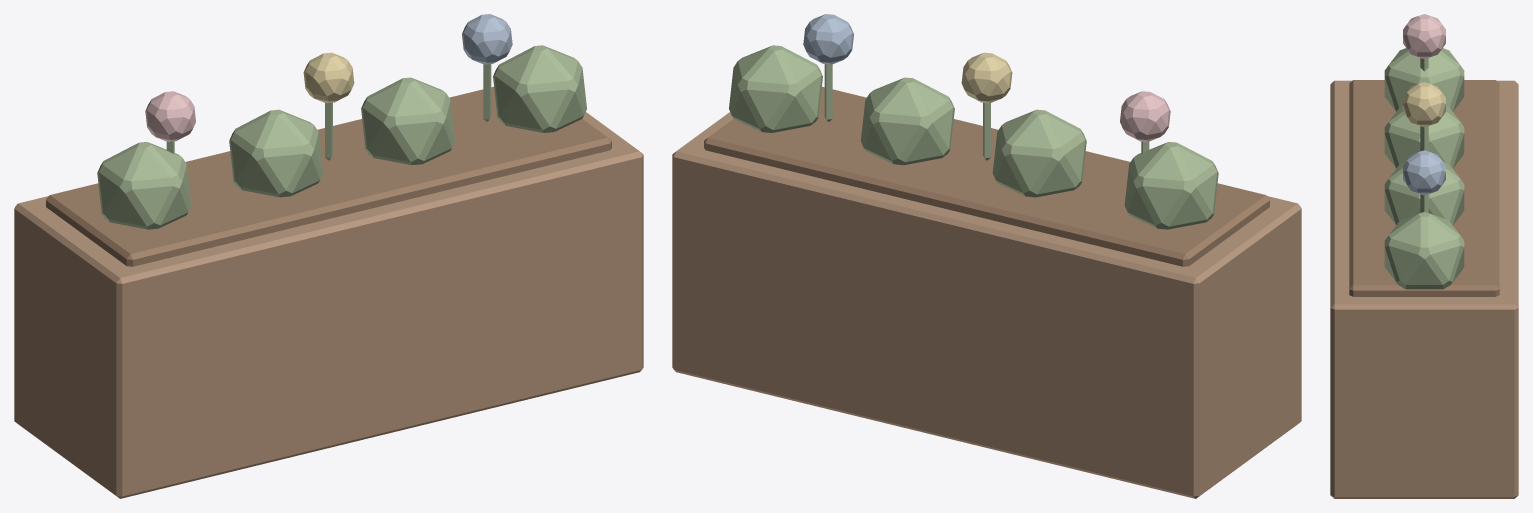
File: SM_Planter_Box.fbx
The picture shows the model from 3 angles, left to right: view 1: azimuth 30°, elevation 25°; view 2: azimuth 150°, elevation 25°; view 3: azimuth 270°, elevation 25°; orthographic projection. The views are drawn at different scales.
Visible parts, largest first — view 1: Planter_Box; view 2: Planter_Box; view 3: Planter_Box.
Part boxes in pixels (left/top/right/bottom): Planter_Box: left=14, top=14, right=643, bottom=498; Planter_Box: left=672, top=14, right=1301, bottom=498; Planter_Box: left=1330, top=14, right=1518, bottom=498.
Bounding box in the file's own units: 100 × 62.09 × 35.
